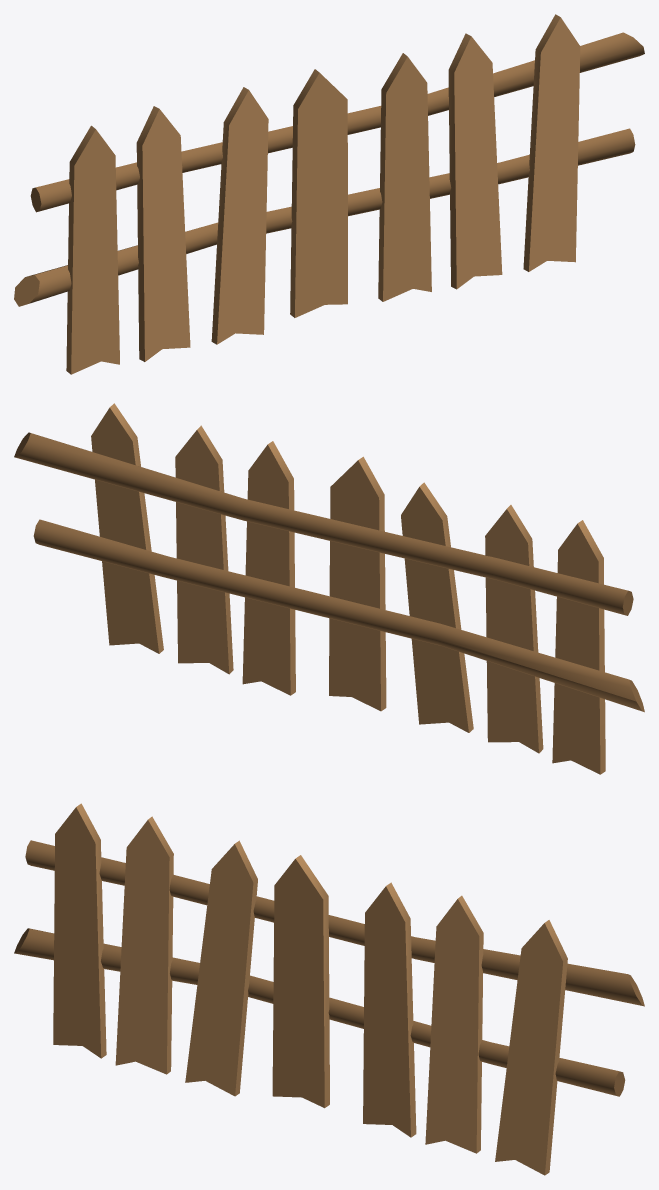
3 renders of one model, top to bottom at view 1: azimuth 30°, elevation 25°; view 2: azimuth 150°, elevation 25°; view 3: azimuth 330°, elevation 25°, orthographic.
Parts seen in each view (by area): view 1: default2_Material_0; view 2: default2_Material_0; view 3: default2_Material_0.
Part boxes in pixels (bbox=[...]): default2_Material_0: bbox=[14, 14, 644, 374]; default2_Material_0: bbox=[14, 403, 644, 774]; default2_Material_0: bbox=[14, 803, 644, 1175].
Size of the model in its own units: 0.0724 by 0.0275 by 0.00492.
1 material, 1 textured.
